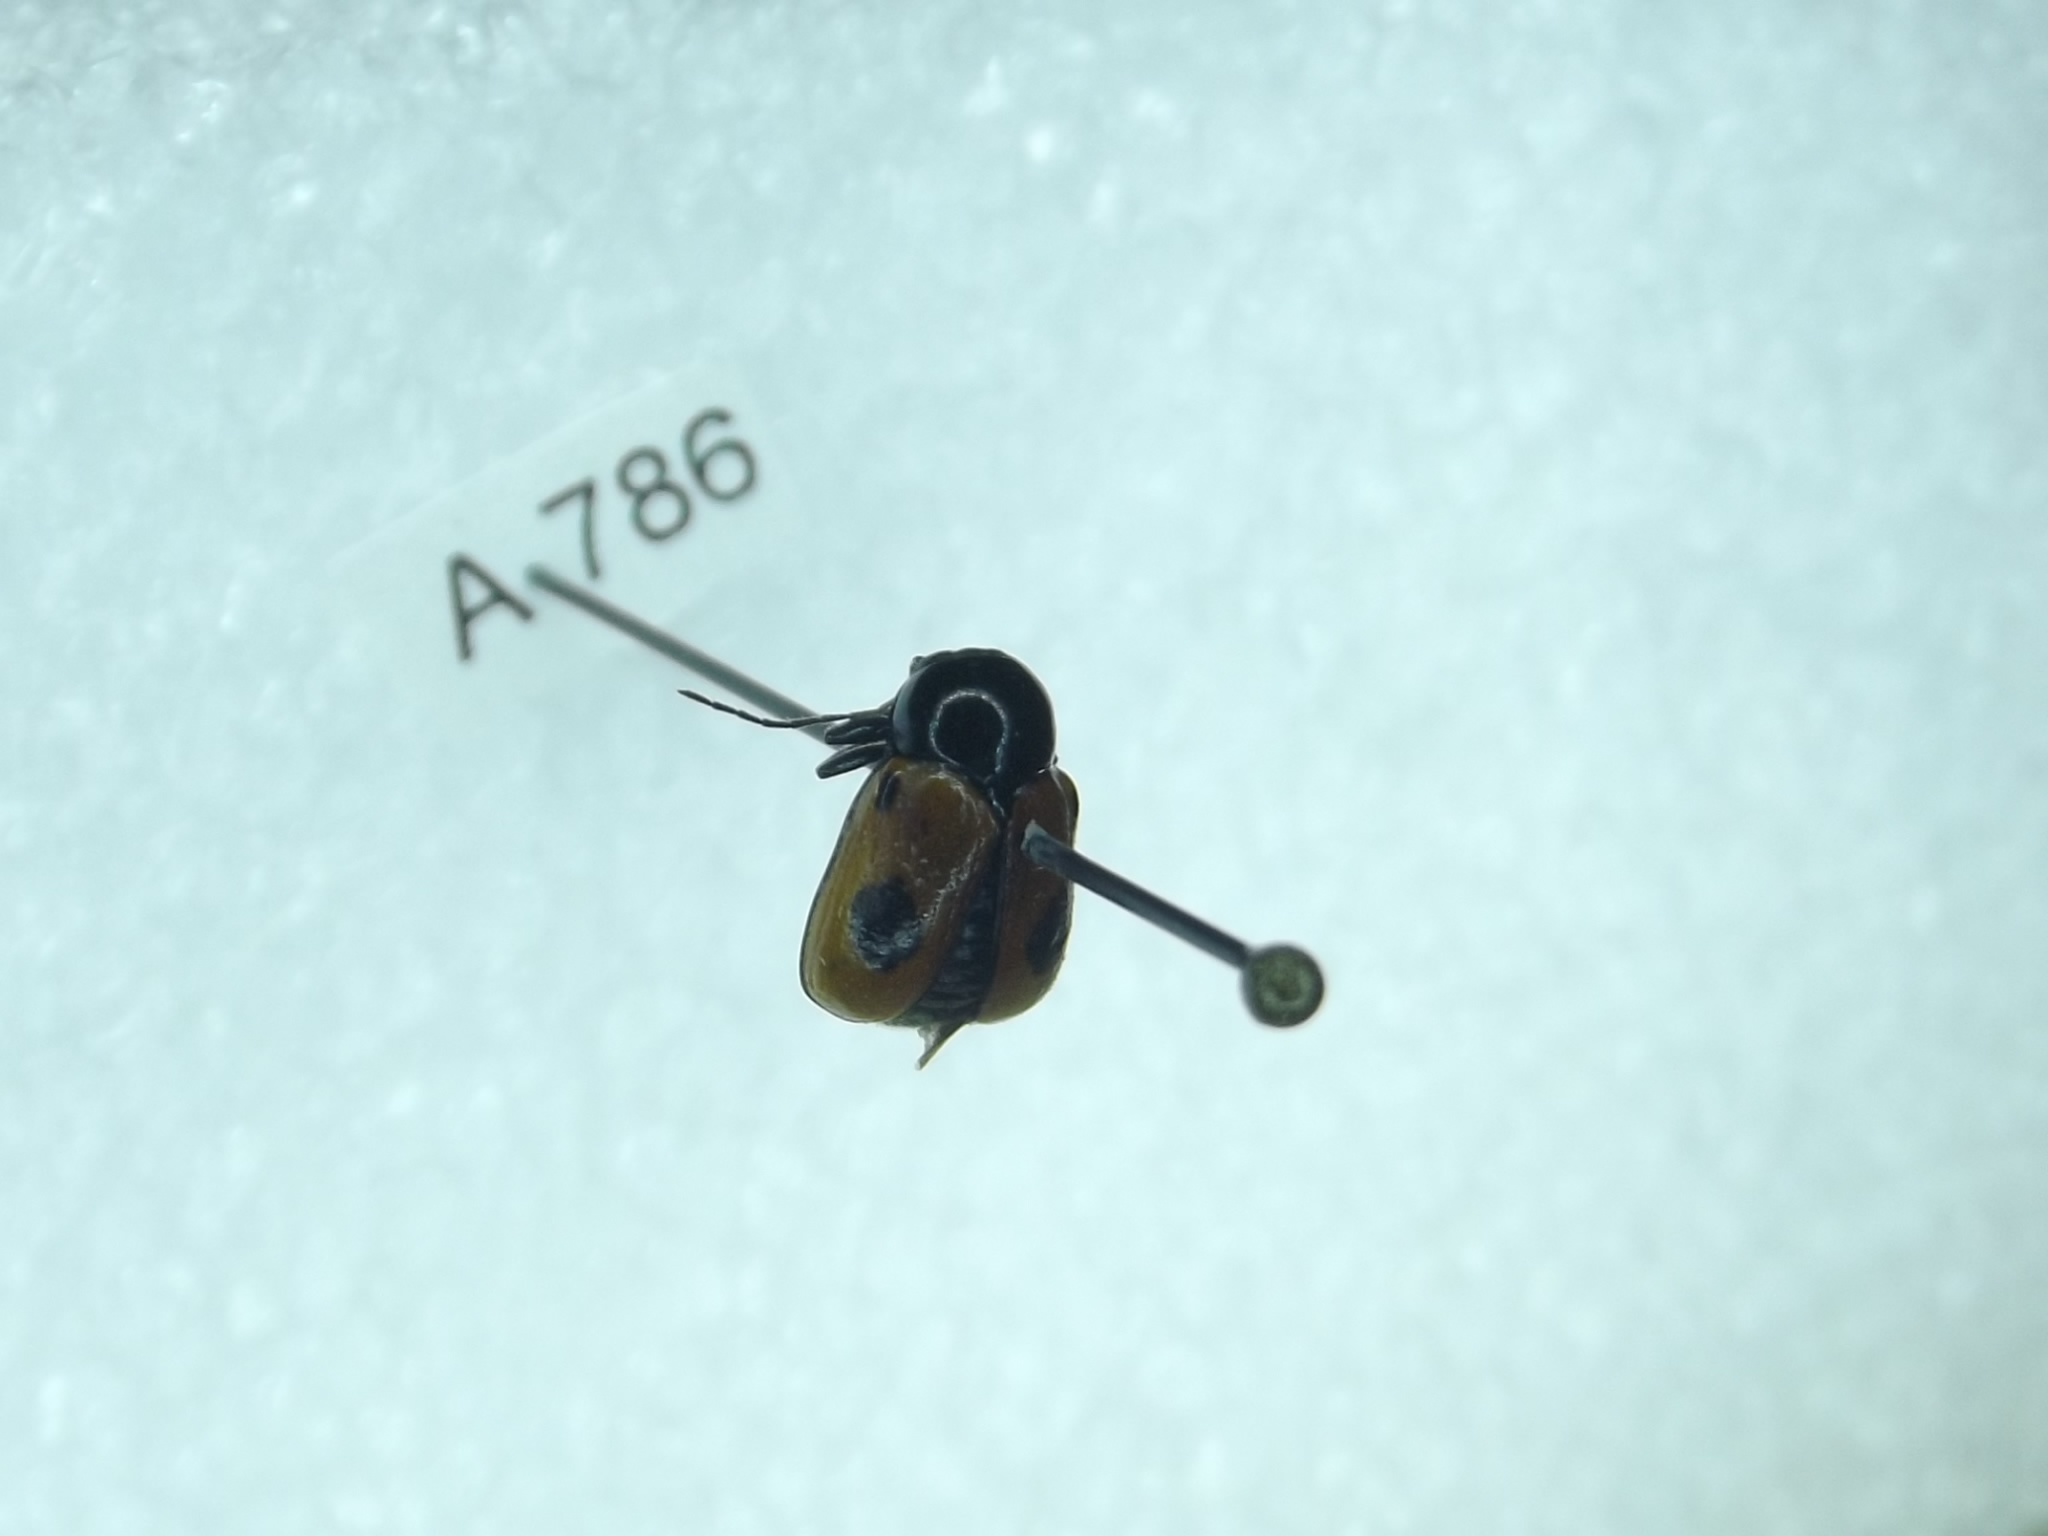Cryptocephalus_bipunctatus: (666, 642, 1092, 1092)
